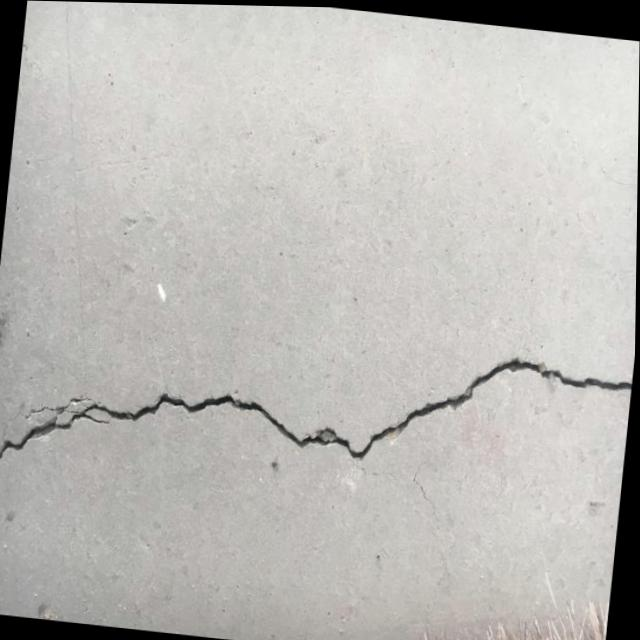Crack: (0, 260, 636, 590)
